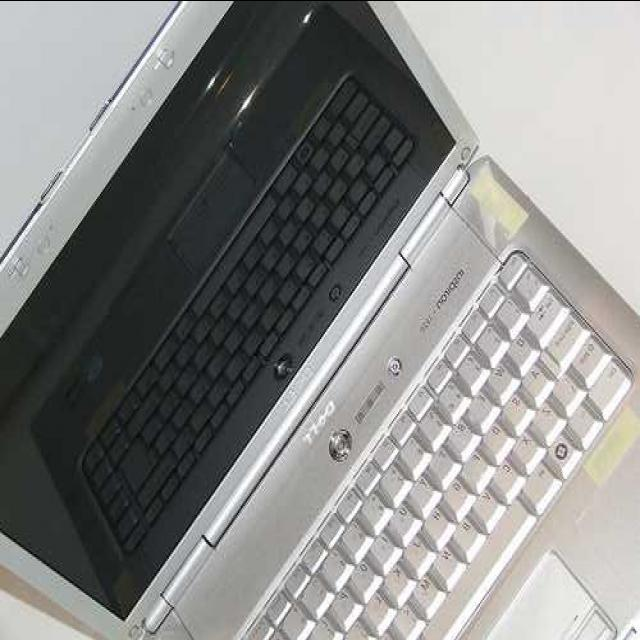laptop: (38, 0, 640, 640)
